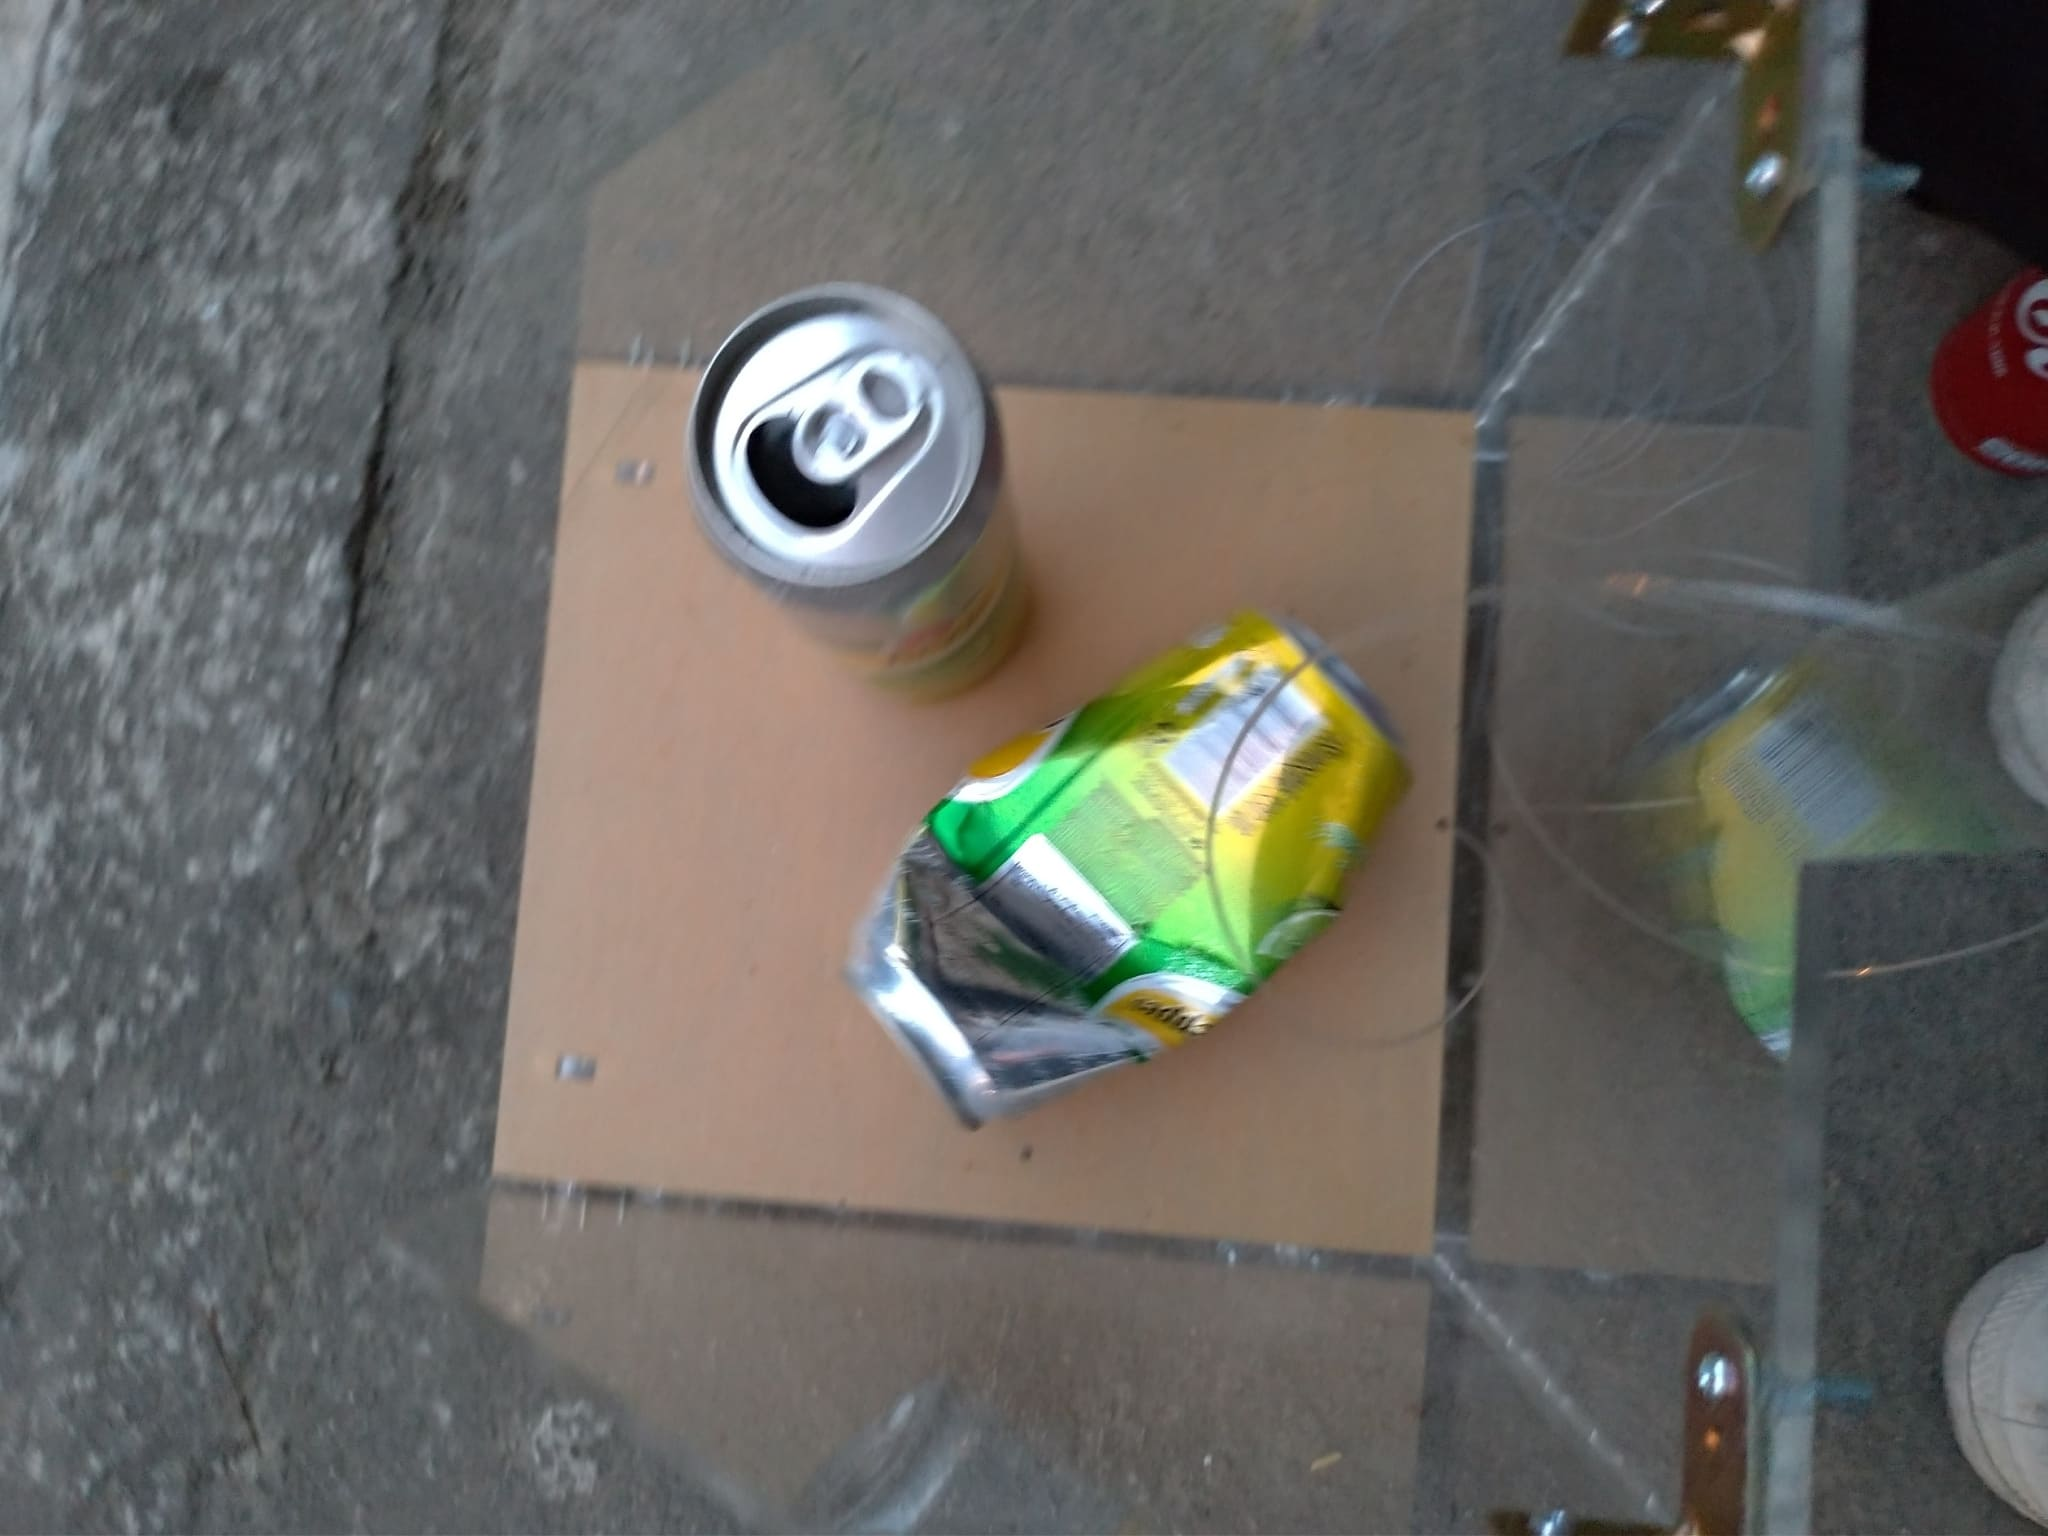AlCan: (842, 623, 1414, 1137), (684, 269, 1039, 705), (1929, 245, 2048, 479)
